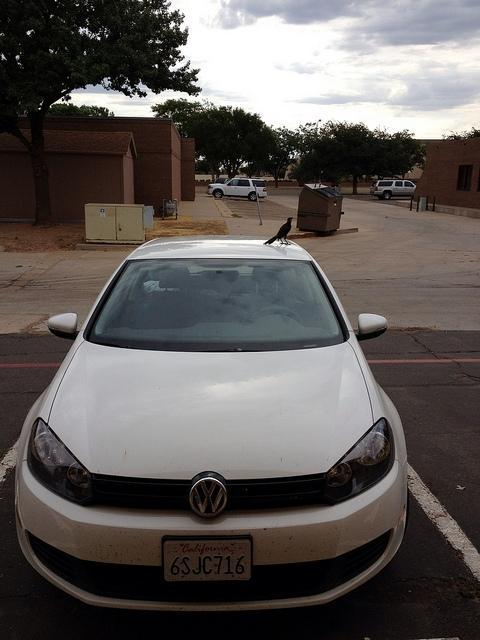car: (16, 235, 412, 606), (208, 179, 266, 200), (370, 180, 419, 197)
truck: (206, 178, 266, 202)
